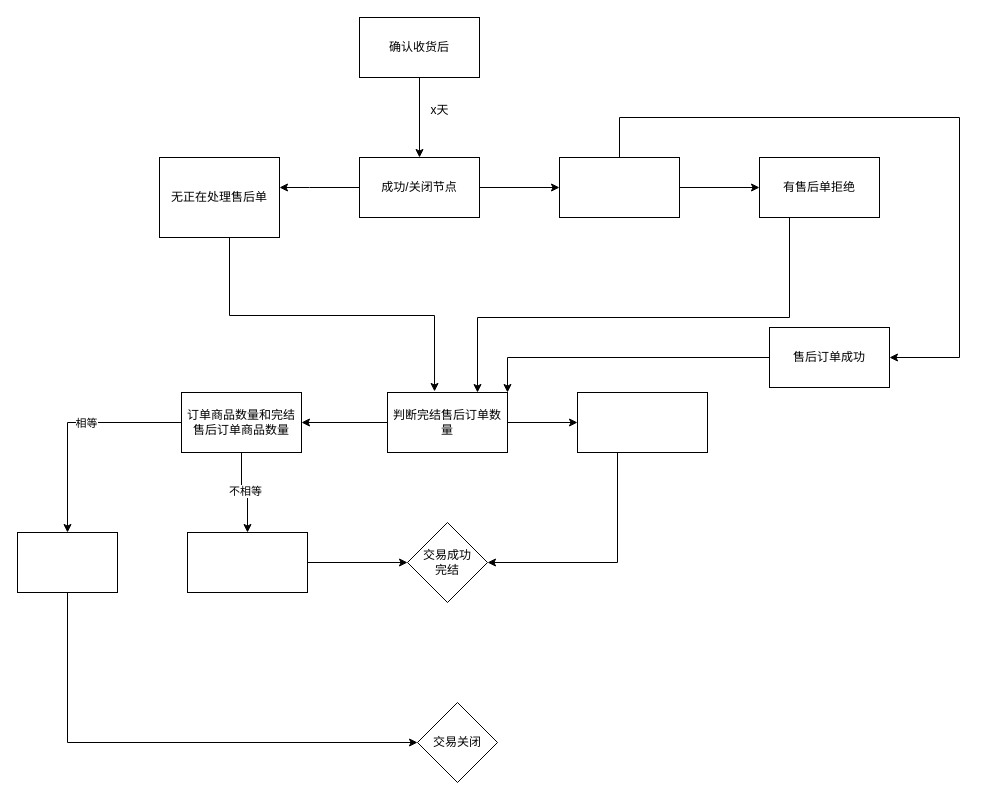
The diagram is 985 pixels wide and 800 high, and some of its shapes have lost their labels. Each missing label, with the centre of its shape:
全部完结: the point at 67,562
无售后单: the point at 642,422
有正在售后单 订单卡死: the point at 619,187
未全部完结: the point at 247,562
